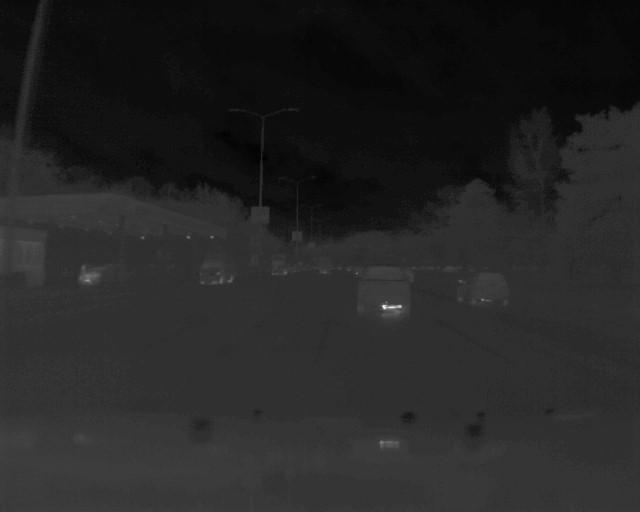car: (354, 261, 416, 317), (455, 268, 512, 307), (192, 250, 239, 288)
